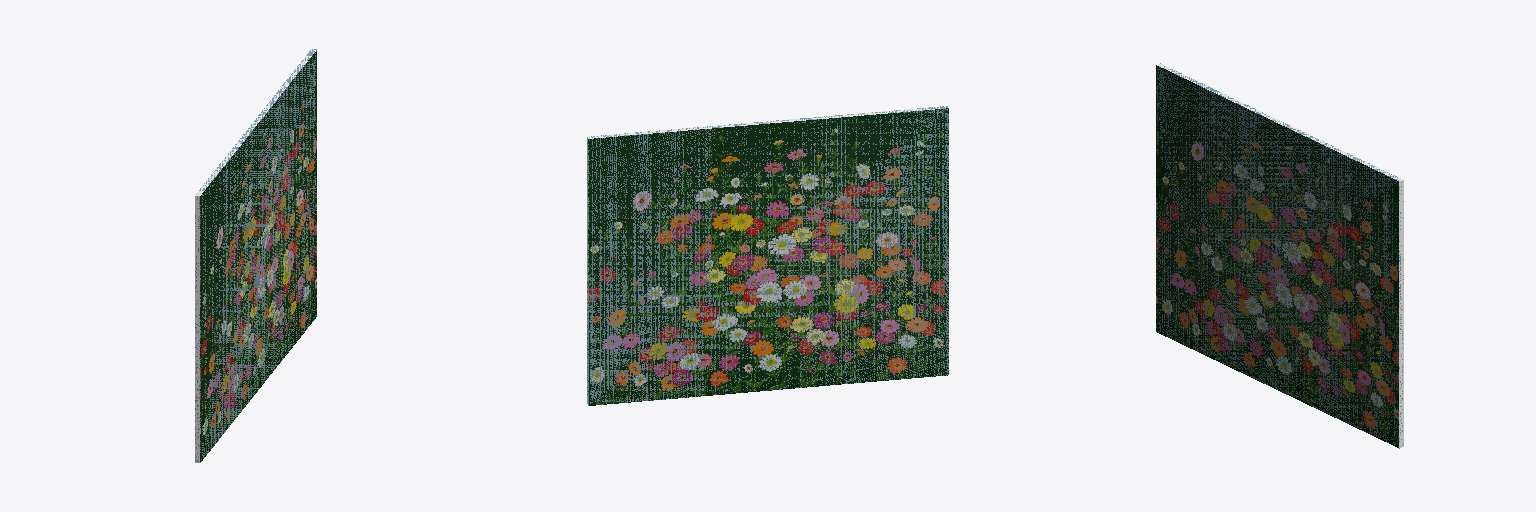
3 renders of one model, left to right at view 1: azimuth 30°, elevation 25°; view 2: azimuth 150°, elevation 25°; view 3: azimuth 270°, elevation 25°, orthographic.
Parts seen in each view (by area): view 1: Mesh1 Model; view 2: Mesh1 Model; view 3: Mesh1 Model.
Part boxes in pixels (x1,y1,x2,y2): Mesh1 Model: (195,49,316,462); Mesh1 Model: (587,106,948,405); Mesh1 Model: (1156,63,1403,448).
Size of the model in its own units: 1.44 by 1.52 by 1.27.
3 materials, 1 textured.